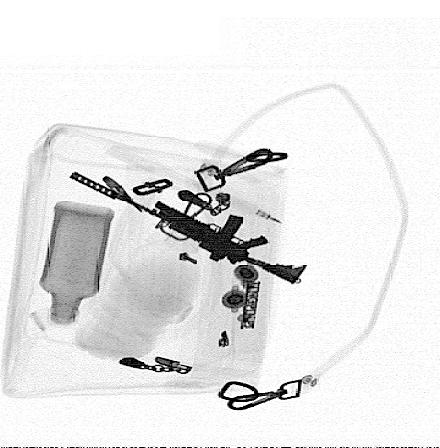Gun: (68, 172, 307, 286)
